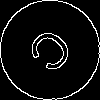C: (25, 25, 83, 82)
